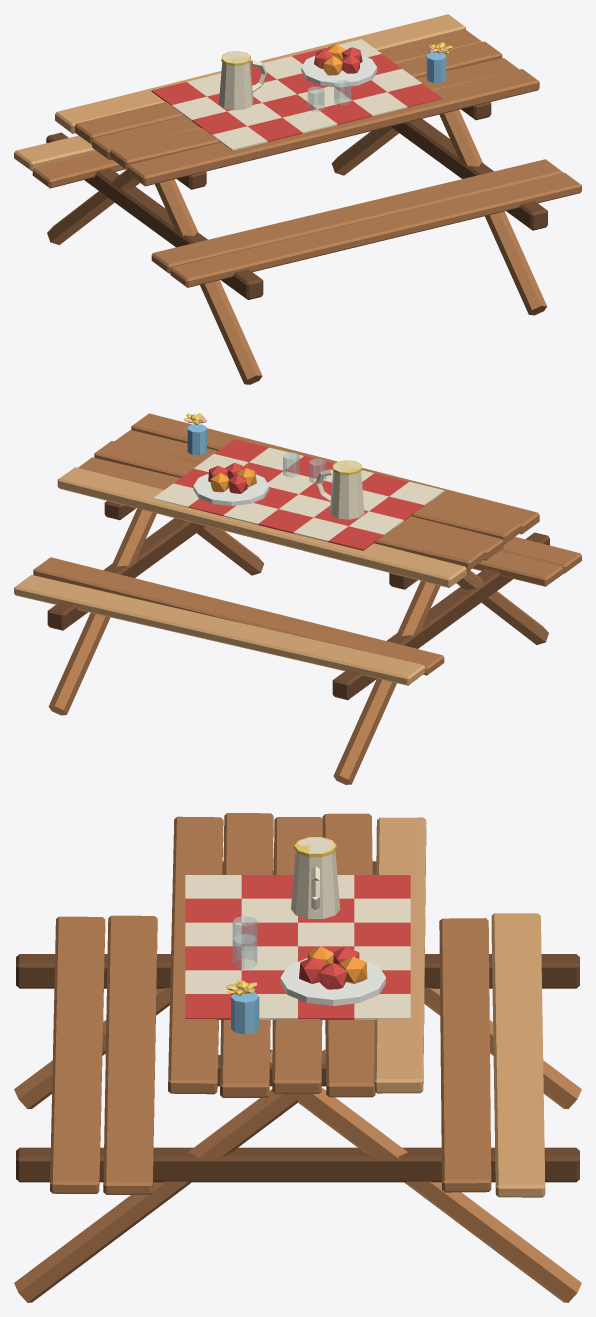
The model's file is picnic_table.glb.
3 renders of one model, top to bottom at view 1: azimuth 30°, elevation 25°; view 2: azimuth 150°, elevation 25°; view 3: azimuth 270°, elevation 25°, orthographic. The views are drawn at different scales.
Visible parts, largest first — view 1: Picnic Table; view 2: Picnic Table; view 3: Picnic Table.
Part boxes in pixels (bbox=[...]): Picnic Table: bbox=[14, 14, 581, 384]; Picnic Table: bbox=[14, 413, 581, 784]; Picnic Table: bbox=[14, 813, 581, 1302].
Bounding box in the file's own units: 1.8 × 1.01 × 1.61.
Materials: 2 (1 with a texture image).
